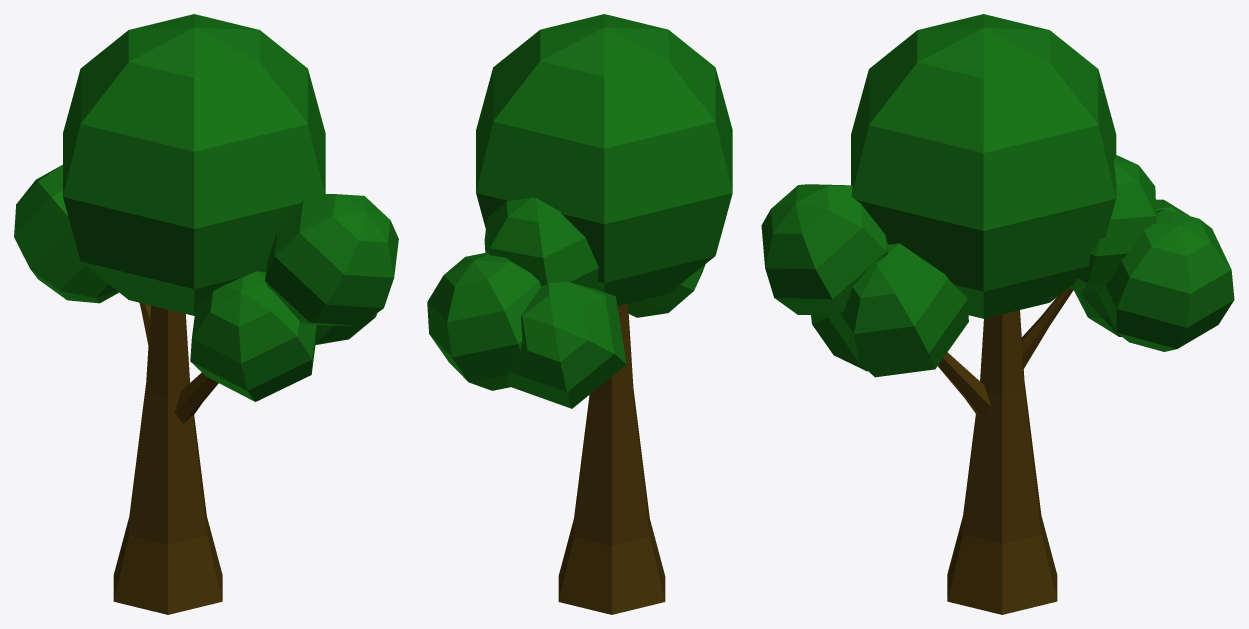
Rendered from Tree_6.fbx.
3 renders of one model, left to right at view 1: azimuth 30°, elevation 25°; view 2: azimuth 150°, elevation 25°; view 3: azimuth 270°, elevation 25°, orthographic. The views are drawn at different scales.
Visible parts, largest first — view 1: Tree_6; view 2: Tree_6; view 3: Tree_6.
Part boxes in pixels (<box>): Tree_6: <box>14,14,398,614</box>; Tree_6: <box>427,14,732,614</box>; Tree_6: <box>761,14,1234,614</box>.
Bounding box in the file's own units: 4.95 × 9.88 × 7.45.
